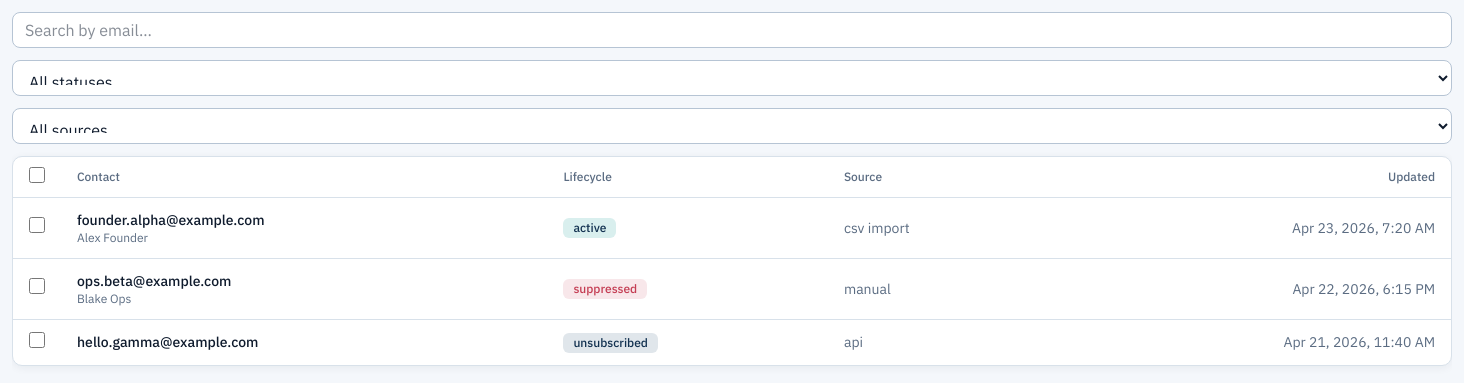
Test: ContactsTable › filters contacts by email search
Type "ops" into the search field named "search contacts" at (732, 30), box x1=12 y1=12 x2=1452 y2=48
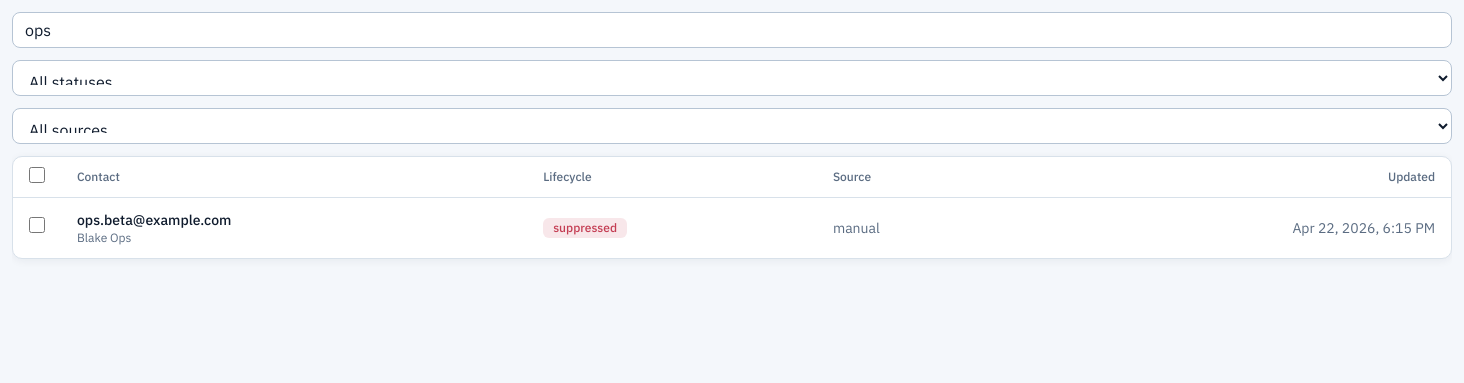
Check: the link "ops.beta@example.com" is shown, box x1=77 y1=210 x2=231 y2=228
Check: the link "founder.alpha@example.com" is gone
